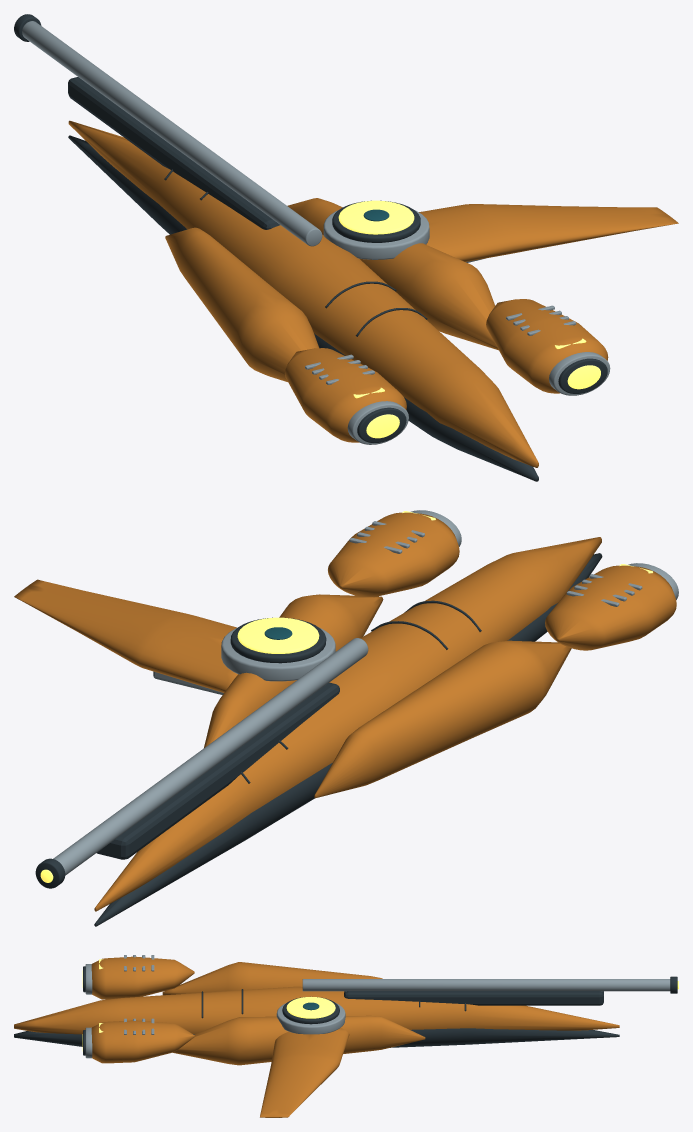
The model's file is boss-4-p2.glb.
The picture shows the model from 3 angles, top to bottom: view 1: azimuth 30°, elevation 25°; view 2: azimuth 150°, elevation 25°; view 3: azimuth 270°, elevation 25°; orthographic projection. The views are drawn at different scales.
Visible parts, largest first — view 1: SM_Hull, SM_Weapon_Right, SM_Wing_Right, SM_Engine_Left, SM_Engine_Right; view 2: SM_Hull, SM_Weapon_Right, SM_Wing_Right, SM_Engine_Left, SM_Engine_Right; view 3: SM_Hull, SM_Weapon_Right, SM_Wing_Right, SM_Engine_Right, SM_Engine_Left.
Part boxes in pixels (x1,y1,x2,y2): SM_Hull: [68, 120, 538, 481]; SM_Weapon_Right: [14, 14, 322, 246]; SM_Wing_Right: [419, 204, 678, 261]; SM_Engine_Left: [284, 348, 408, 444]; SM_Engine_Right: [486, 299, 610, 395]; SM_Hull: [94, 537, 602, 926]; SM_Weapon_Right: [35, 638, 368, 888]; SM_Wing_Right: [14, 579, 237, 692]; SM_Engine_Left: [545, 563, 678, 650]; SM_Engine_Right: [328, 510, 461, 597]; SM_Hull: [14, 962, 619, 1065]; SM_Weapon_Right: [302, 976, 678, 1005]; SM_Wing_Right: [260, 1028, 349, 1117]; SM_Engine_Right: [82, 1018, 194, 1063]; SM_Engine_Left: [82, 955, 194, 999].
Size of the model in its own units: 6.19 by 1.33 by 11.64.
